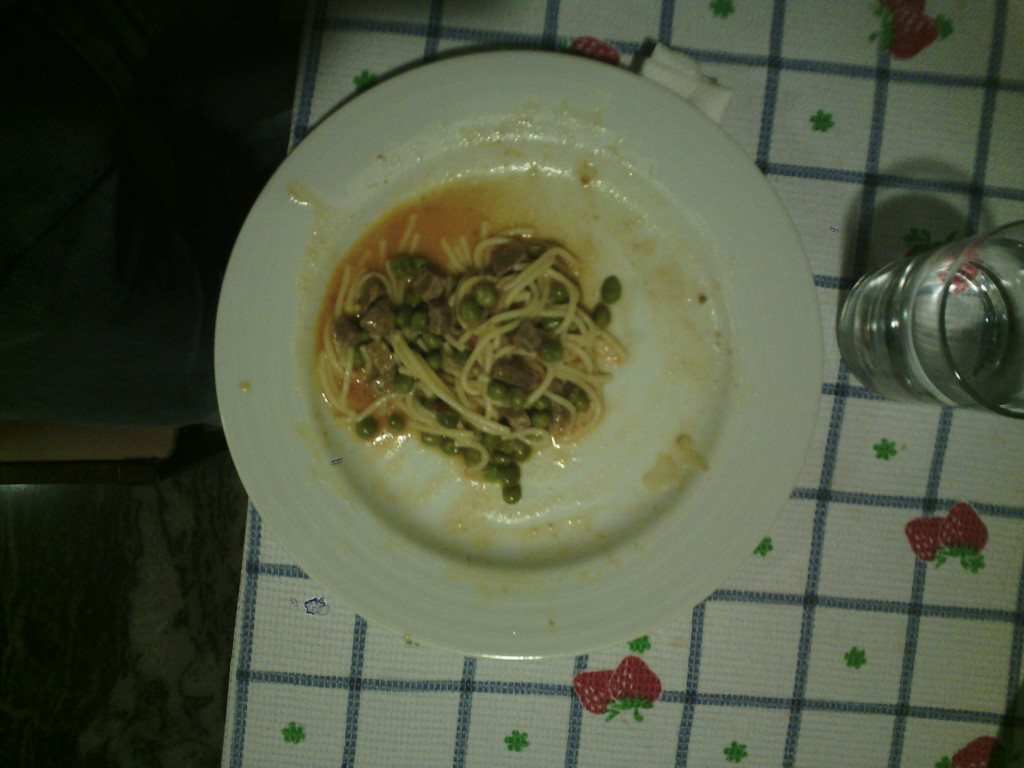41-60: (205, 53, 824, 664)
